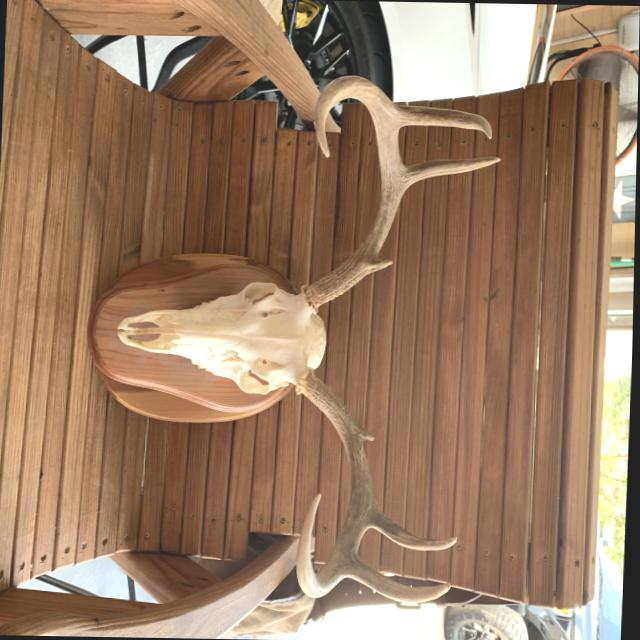L-F: (300, 75, 404, 315)
L-G1: (370, 255, 393, 273)
L-G2: (402, 156, 500, 192)
L-G3: (393, 103, 492, 139)
R-F: (296, 366, 376, 598)
R-G1: (360, 425, 375, 443)
R-G2: (369, 500, 459, 550)
R-G3: (346, 551, 453, 603)
